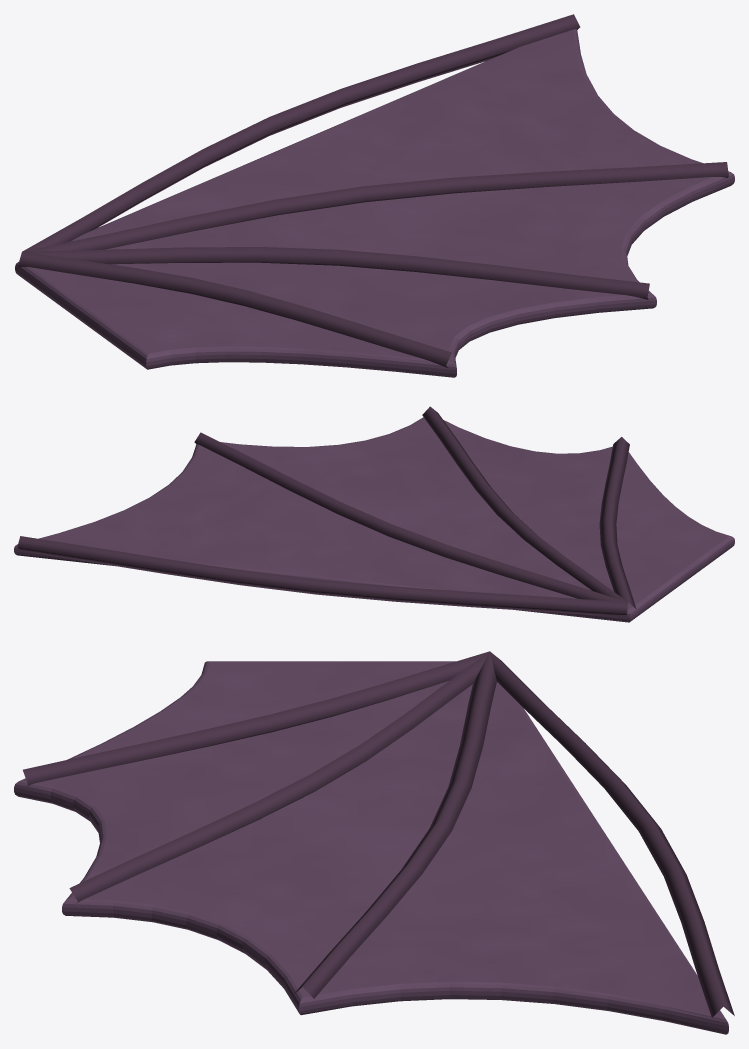
Rendered from bat_wing.glb.
3 renders of one model, top to bottom at view 1: azimuth 30°, elevation 25°; view 2: azimuth 150°, elevation 25°; view 3: azimuth 270°, elevation 25°, orthographic. The views are drawn at different scales.
Visible parts, largest first — view 1: bat_wing; view 2: bat_wing; view 3: bat_wing.
Boxes of the visible parts, x1,y1,x2,y2 form: bat_wing: (15,14,734,377); bat_wing: (14,406,734,622); bat_wing: (14,651,734,1034).
Size of the model in its own units: 0.1835 by 0.0075 by 0.1543.
2 materials, 1 textured.
